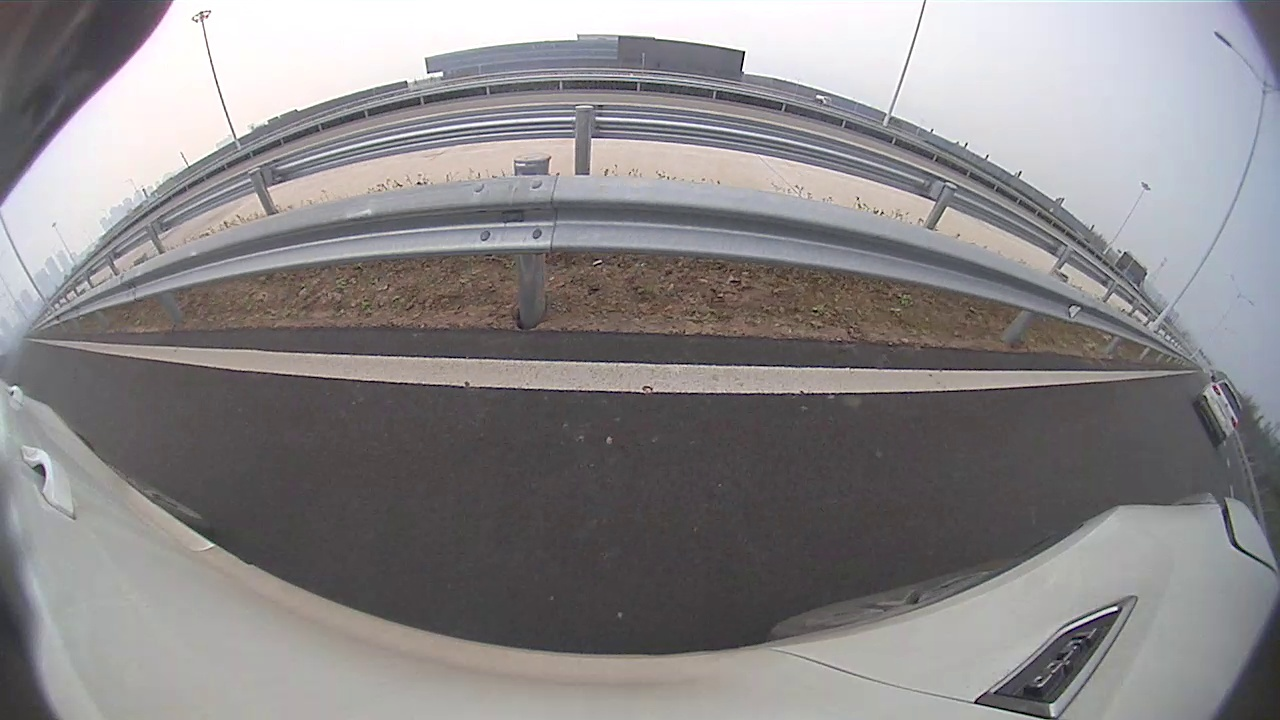car: (1191, 375, 1243, 449)
